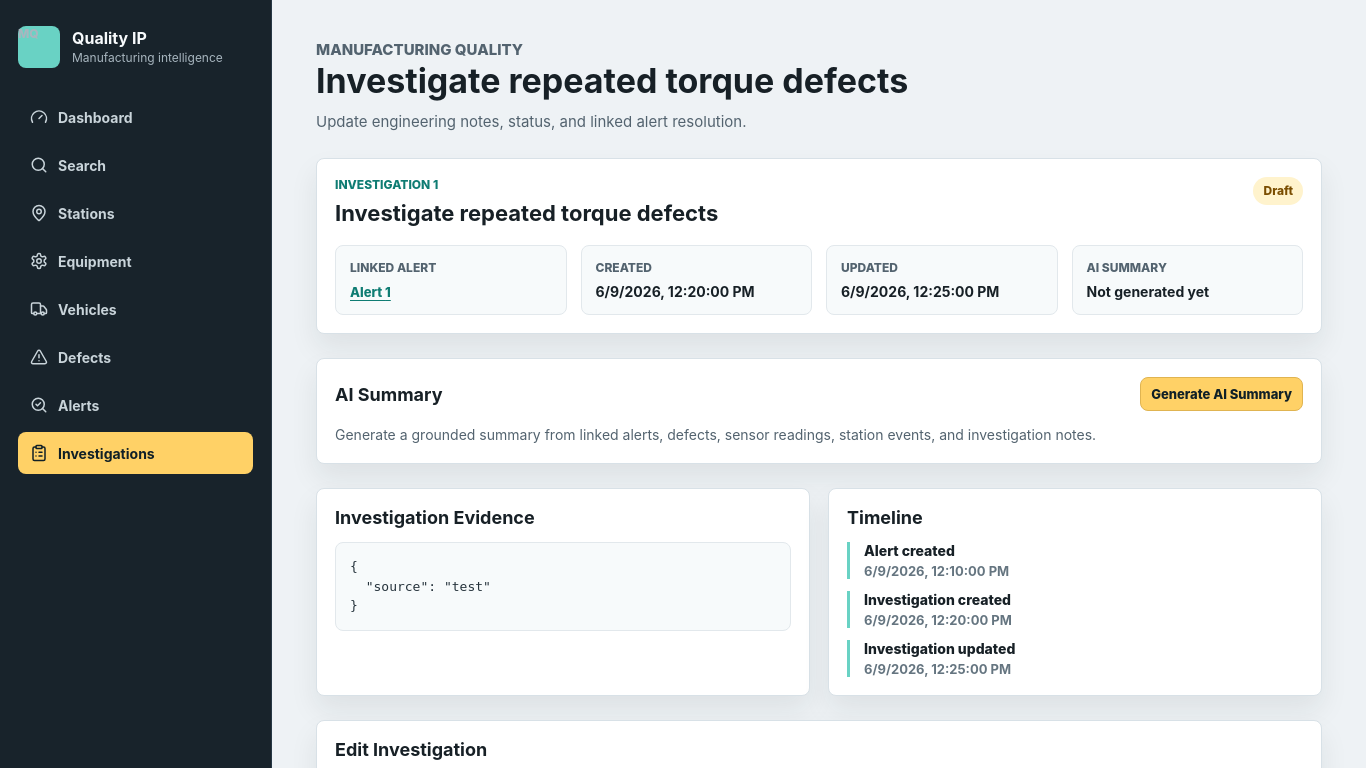
Scenario: Phase 11 workflow pages › shows loading state while generating an AI summary
Click the button "Generate AI Summary".
click(1222, 394)  # box [1140, 377, 1303, 411]
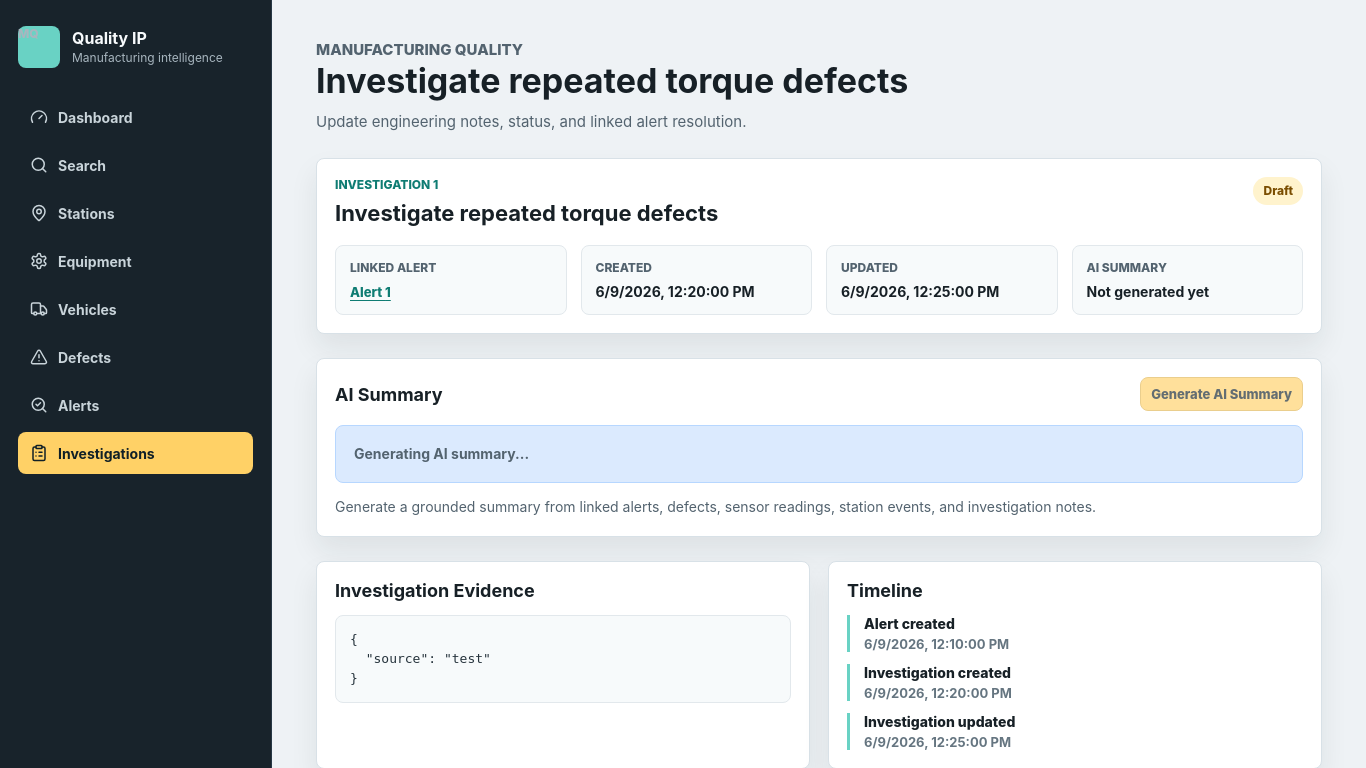
Result: the text "Generating AI summary..." is shown at [335, 425, 1303, 483]
